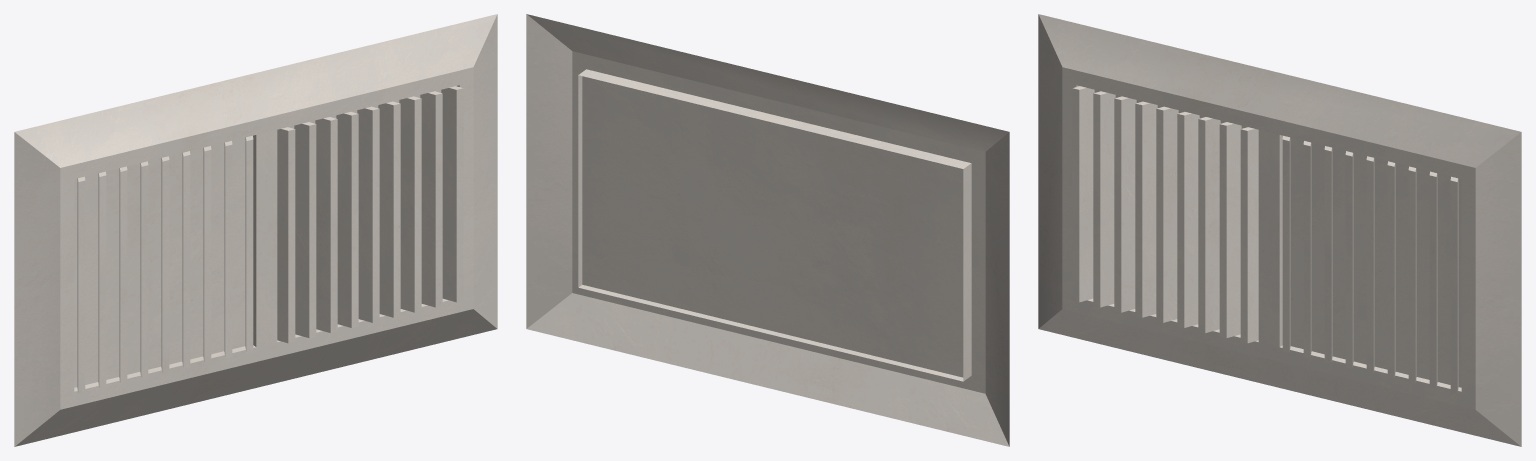
Rendered from nt_2020_air_vent_LOD0.obj.
3 renders of one model, left to right at view 1: azimuth 30°, elevation 25°; view 2: azimuth 150°, elevation 25°; view 3: azimuth 330°, elevation 25°, orthographic.
Visible parts, largest first — view 1: paris_plaster_interiorwall_white; view 2: paris_plaster_interiorwall_white; view 3: paris_plaster_interiorwall_white.
Part boxes in pixels (x1=…): paris_plaster_interiorwall_white: x1=14, y1=14, x2=497, y2=446; paris_plaster_interiorwall_white: x1=526, y1=14, x2=1009, y2=446; paris_plaster_interiorwall_white: x1=1038, y1=14, x2=1521, y2=446.
Size of the model in its own units: 43.81 by 27.3 by 2.35.
Materials: 1 (1 with a texture image).
